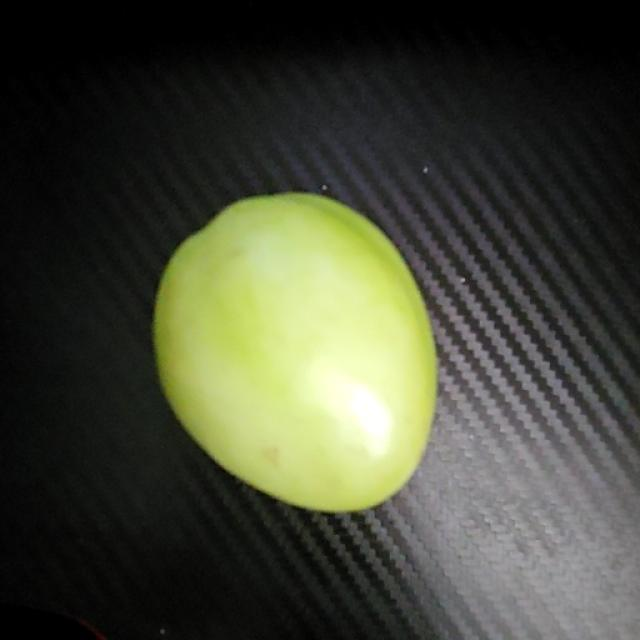Red: (150, 188, 440, 514)
